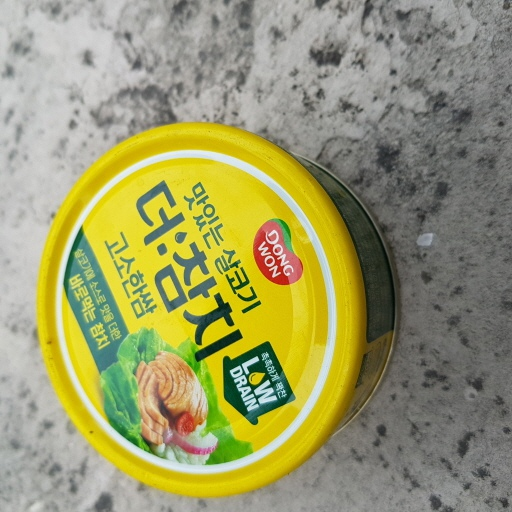Metal_1: (32, 119, 405, 497)
